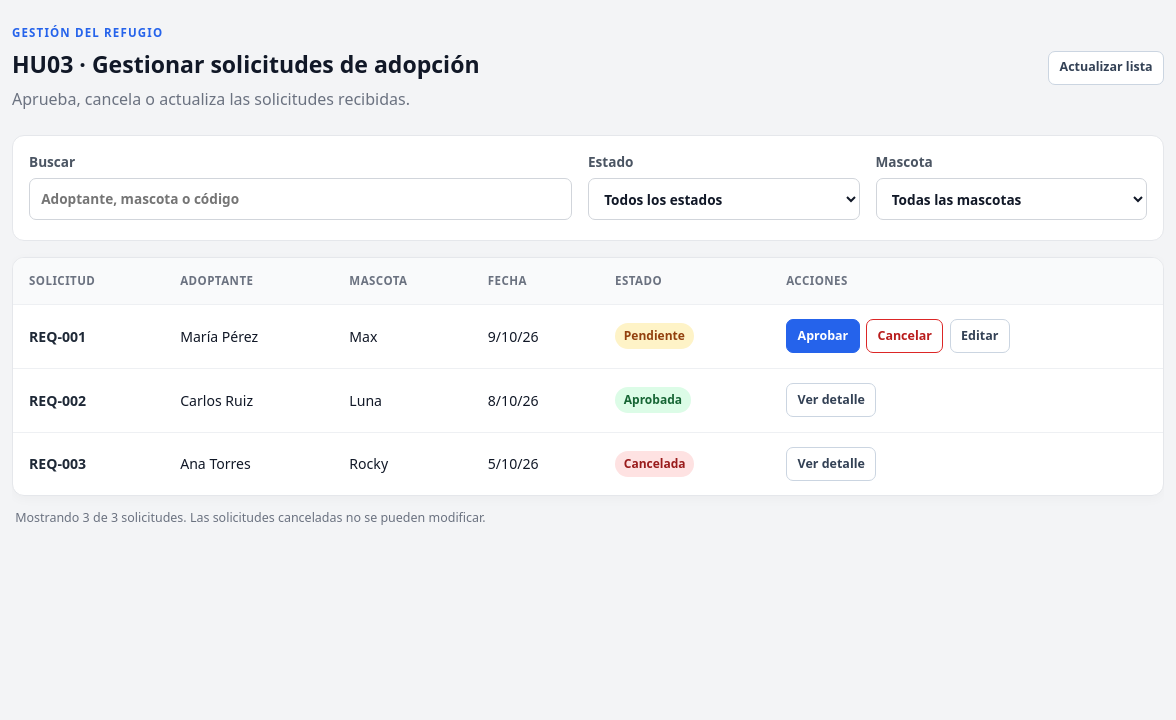
Test: HU03 - gestionar solicitudes de adopción › muestra un error cuando falla la actualización manual
Expected: the heading "HU03 · Gestionar solicitudes de adopción" is shown, [12, 47, 480, 82]
Click the button "Actualizar lista".
click(1106, 68)  # box [1048, 50, 1164, 84]
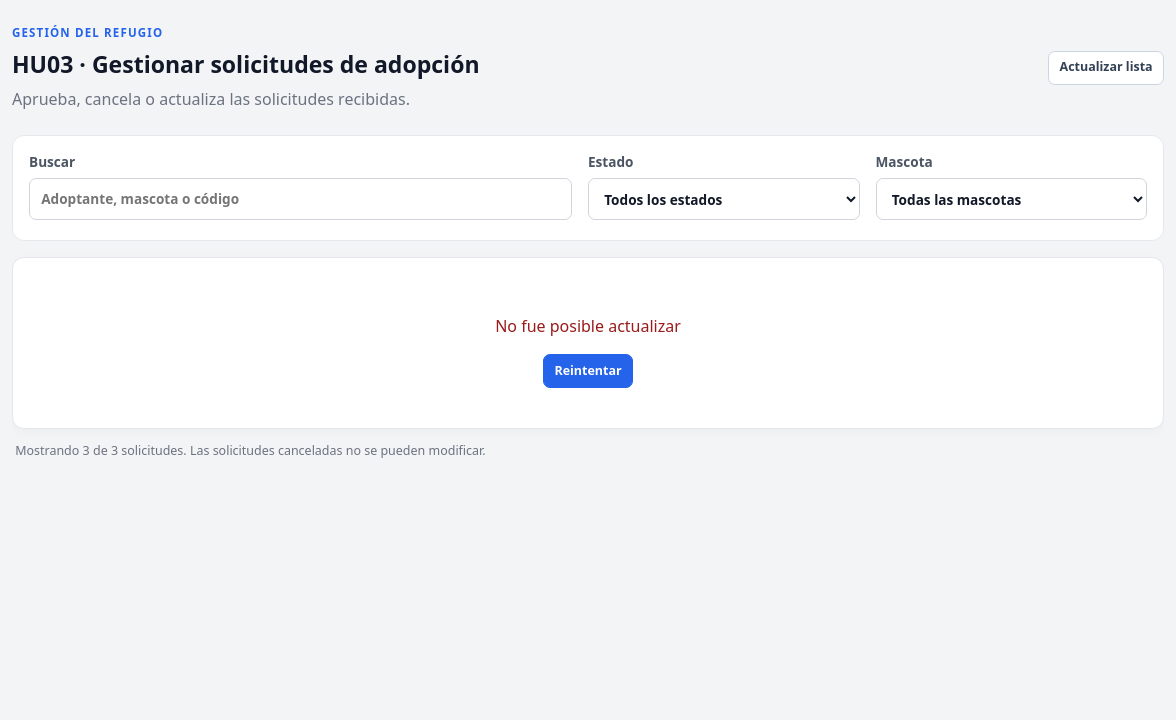
Expected: the text "No fue posible actualizar" is shown, [495, 315, 681, 337]
